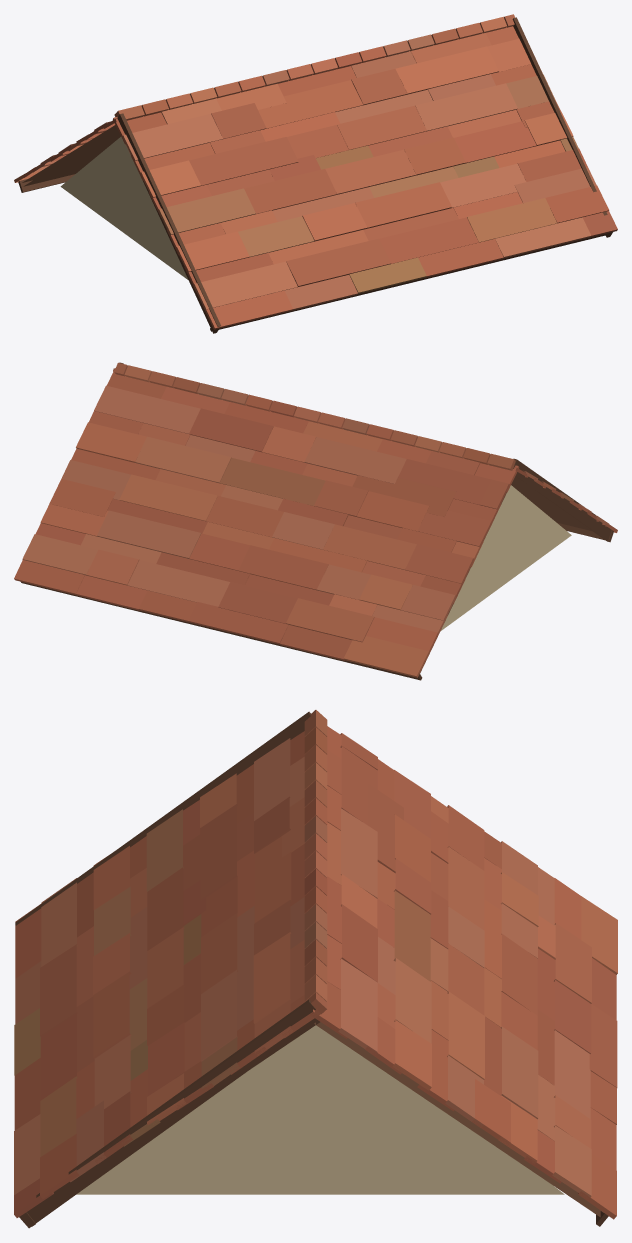
File: tejado_dos_aguas.glb
3 renders of one model, top to bottom at view 1: azimuth 30°, elevation 25°; view 2: azimuth 150°, elevation 25°; view 3: azimuth 270°, elevation 25°, orthographic. The views are drawn at different scales.
Parts seen in each view (by area): view 1: tejado_dos_aguas_fijo; view 2: tejado_dos_aguas_fijo; view 3: tejado_dos_aguas_fijo.
Boxes of the visible parts, x1=… form: tejado_dos_aguas_fijo: x1=14, y1=14, x2=617, y2=333; tejado_dos_aguas_fijo: x1=14, y1=362, x2=617, y2=680; tejado_dos_aguas_fijo: x1=14, y1=710, x2=617, y2=1228.
Size of the model in its own units: 7 by 2.54 by 6.07.
